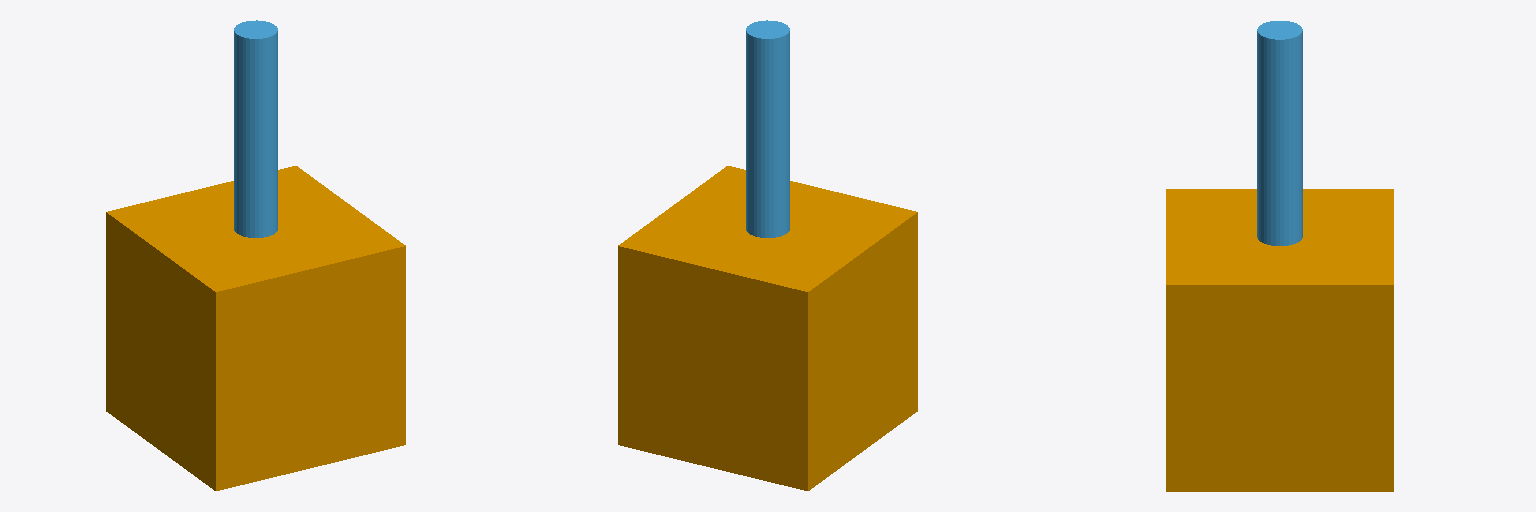
robot.urdf — two_link_robot:
<!-- |
     |  This document was autogenerated by xacro from ssafy_ws/src/urdf_practice/urdf/two_link_robot.xacro
     |  EDITING THIS FILE BY HAND IS NOT RECOMMENDED
     |  =============================================================================================== |
-->

<robot name="two_link_robot">

  <link name="base_link">
    <visual>
      <origin xyz="0 0 0"/>
      <geometry>
        <box size="1 1 1"/>
      </geometry>
    </visual>
  </link>

  <joint name="joint1" type="revolute">
    <parent link="base_link"/>
    <child link="second_link"/>
    <origin rpy="0 0 0" xyz="0 0 0.5"/>
    <axis xyz="1 0 0"/>
    <limit effort="1000" lower="-1.57" upper="1.57" velocity="1.0"/>
    # effort maximum torque, velocity max speed
  </joint>

  <link name="second_link">
    <visual>
      <origin rpy="0 0 0" xyz="0 0 0.5"/>
      <geometry>
        <cylinder length="1.0" radius="0.1"/>
      </geometry>
    </visual>
  </link>

</robot>

--- What the picture shows (computed from the rendered views, not written in the file) ---
Views: 3 orthographic renders of the robot side by side, from view 1: azimuth 30°, elevation 25°; view 2: azimuth 150°, elevation 25°; view 3: azimuth 270°, elevation 25°.
Model two_link_robot with 2 links and 1 joints (1 revolute), rooted at base_link, posed all joints at 0.
Visible links, largest first — view 1: base_link, second_link; view 2: base_link, second_link; view 3: base_link, second_link.
Link boxes in pixels (box(x1,y1,x2,y2)): base_link: box(106, 166, 405, 490); second_link: box(234, 20, 277, 237); base_link: box(618, 166, 917, 490); second_link: box(746, 20, 789, 237); base_link: box(1166, 189, 1393, 491); second_link: box(1257, 21, 1302, 245).
Bounding box of the posed robot: 1 × 1 × 2 m (x, y, z).
Geometry: primitives only (box / cylinder / sphere), no mesh files.